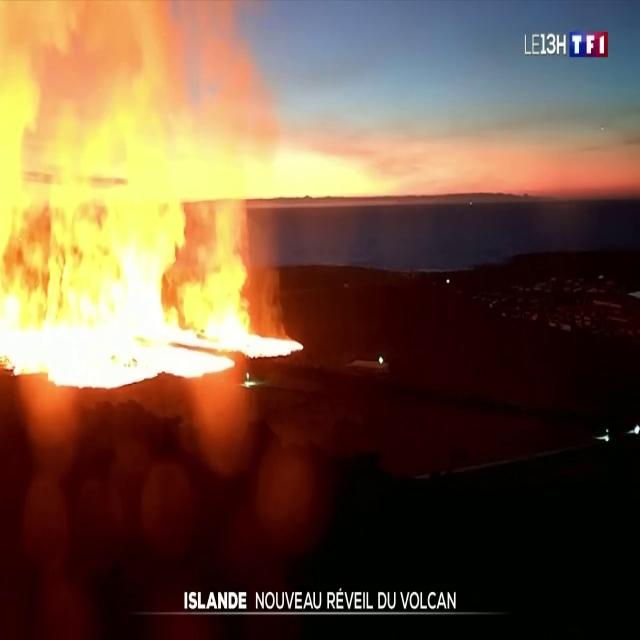Fire: (0, 0, 293, 397)
